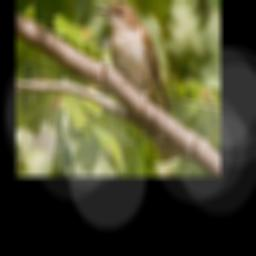Cuckoo: (94, 0, 179, 165)
